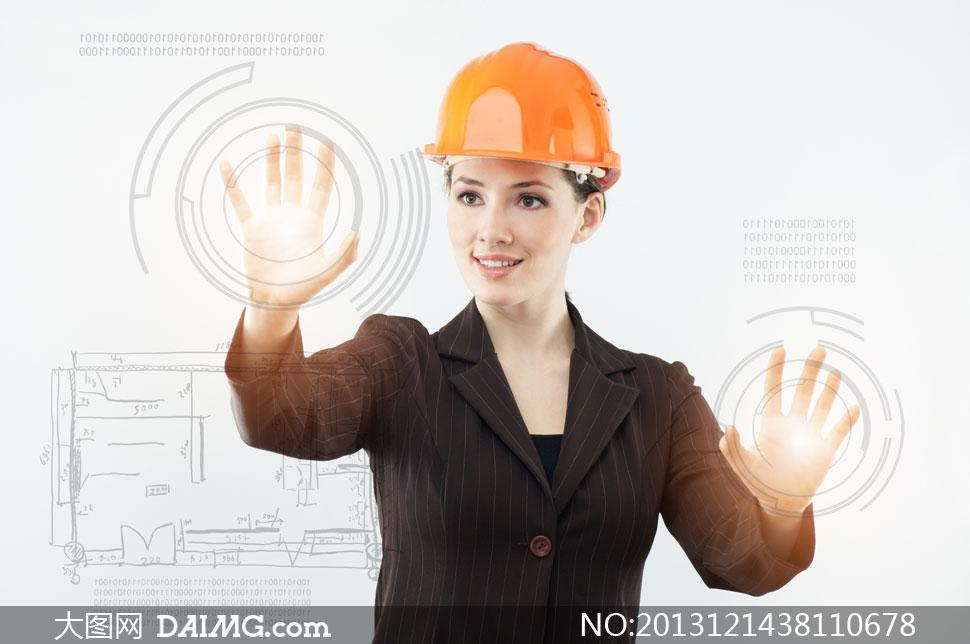helmet: (419, 41, 626, 192)
